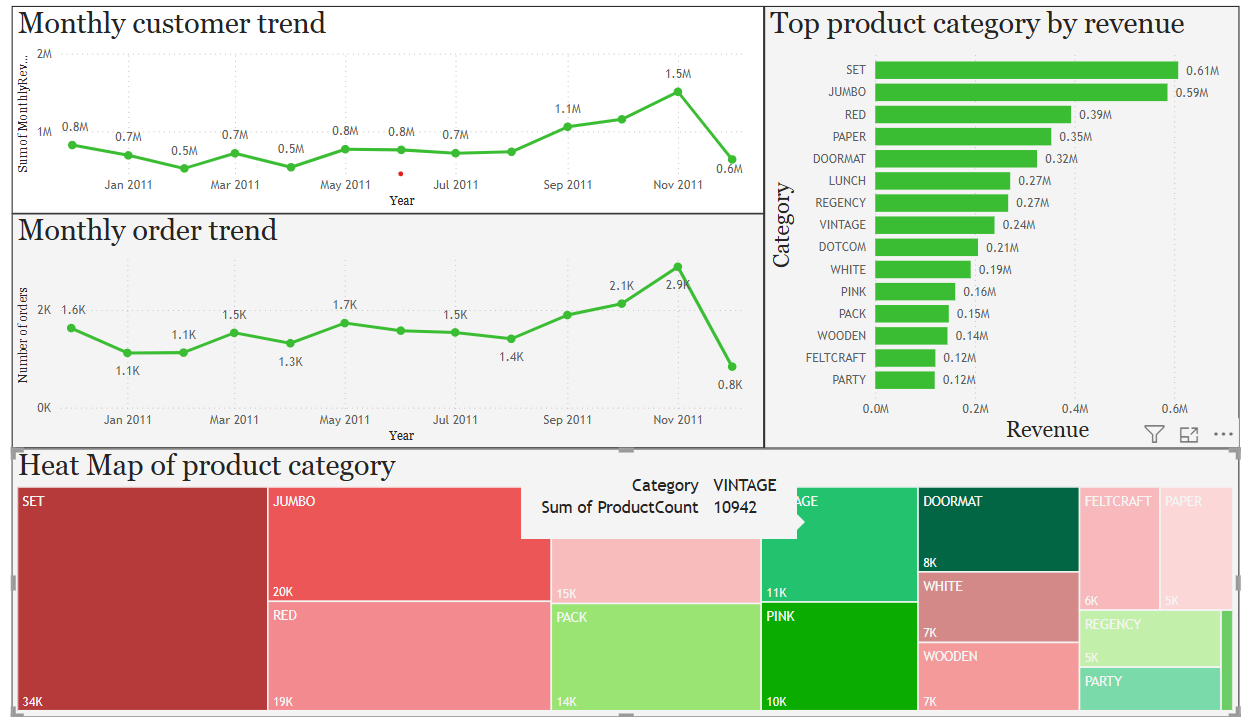

What the dashboard file says about the page in this screenshot:
{"tool":"powerbi","page":{"name":"Sales Performance Analysis","canvas":[1280,720],"ordinal":1},"visuals":[{"type":"lineChart","title":"Monthly order trend","fields":{"Y":["Sum(_Monthly_revenue_trend_SELECT_strftime_Y_m_InvoiceDate_as_Month__202502171655.NumberOfOrders)"],"Category":["_Monthly_revenue_trend_SELECT_strftime_Y_m_InvoiceDate_as_Month__202502171655.Month.Variation.Date Hierarchy.Year","_Monthly_revenue_trend_SELECT_strftime_Y_m_InvoiceDate_as_Month__202502171655.Month.Variation.Date Hierarchy.Month"]},"box":[33,227.4,736.1,229.9],"z":0},{"type":"lineChart","title":"Monthly customer trend","fields":{"Y":["Sum(_Monthly_revenue_trend_SELECT_strftime_Y_m_InvoiceDate_as_Month__202502171655.MonthlyRevenue)"],"Category":["_Monthly_revenue_trend_SELECT_strftime_Y_m_InvoiceDate_as_Month__202502171655.Month.Variation.Date Hierarchy.Year","_Monthly_revenue_trend_SELECT_strftime_Y_m_InvoiceDate_as_Month__202502171655.Month.Variation.Date Hierarchy.Month"]},"box":[33,24.5,736.1,203],"z":1000},{"type":"clusteredBarChart","title":"Top product category by revenue","fields":{"Category":["ProductCategories_202502171657.Category"],"Y":["Sum(ProductCategories_202502171657.CategoryRevenue)"]},"box":[769.2,24.5,464.7,432.9],"z":2000},{"type":"treemap","title":"Heat Map of product category","fields":{"Group":["ProductCategories_202502171657.Category"],"Values":["Sum(ProductCategories_202502171657.ProductCount)"]},"box":[33,457.3,1200.8,262.9],"z":3000}]}

Visuals, with their boxes in screenshot pixels (x1, y1, x2, y2), scaled from the page's 1280x720 canvas onto the 1257x717 screenshot:
"Monthly order trend" lineChart: select_region(32, 226, 755, 455)
"Monthly customer trend" lineChart: select_region(32, 24, 755, 227)
"Top product category by revenue" clusteredBarChart: select_region(755, 24, 1212, 455)
"Heat Map of product category" treemap: select_region(32, 455, 1212, 716)
